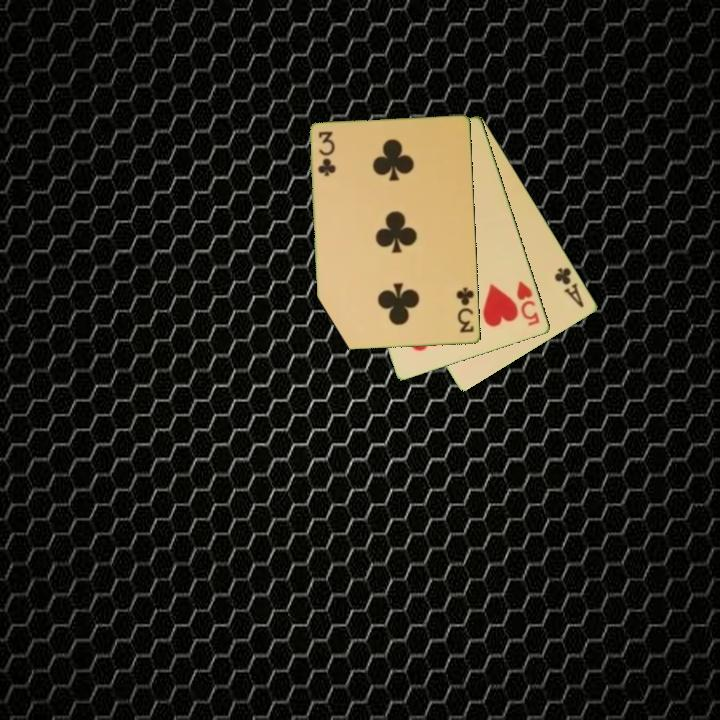3c: (453, 284, 477, 336), (315, 128, 337, 180)
5h: (513, 278, 543, 329)
Ac: (551, 264, 587, 310)
